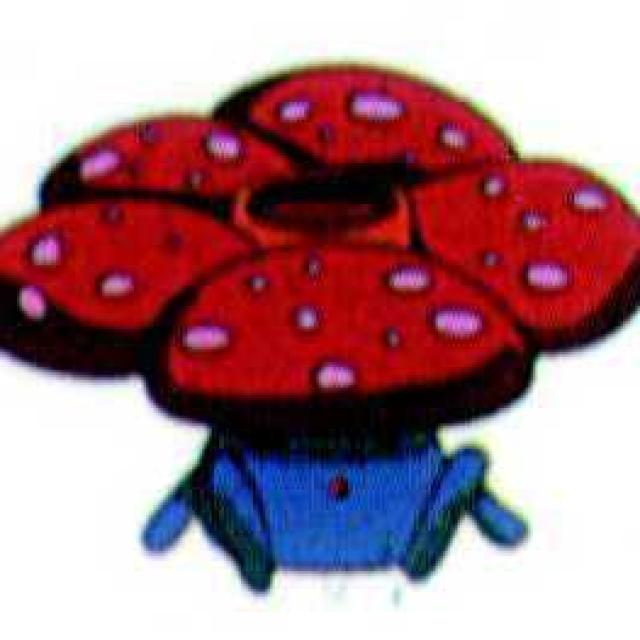Vileplume: (0, 45, 640, 640)
